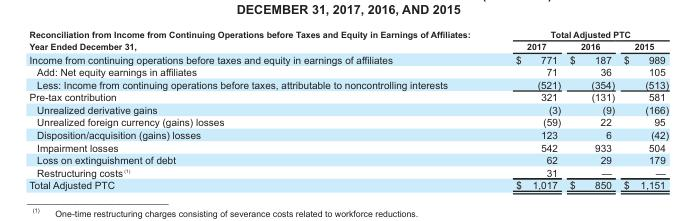table: (28, 28, 668, 190)
table column: (28, 28, 492, 190), (492, 28, 564, 190), (564, 28, 618, 190), (618, 28, 668, 190)
table column header: (28, 28, 668, 52)
table row: (28, 52, 668, 65), (28, 65, 668, 78), (28, 90, 668, 103), (28, 115, 668, 128), (28, 140, 668, 153), (28, 165, 668, 178), (28, 28, 668, 40), (28, 40, 668, 52), (28, 78, 668, 90), (28, 103, 668, 115), (28, 128, 668, 140), (28, 153, 668, 165), (28, 178, 668, 190)
table spanning cell: (28, 28, 492, 52), (492, 28, 668, 40)
